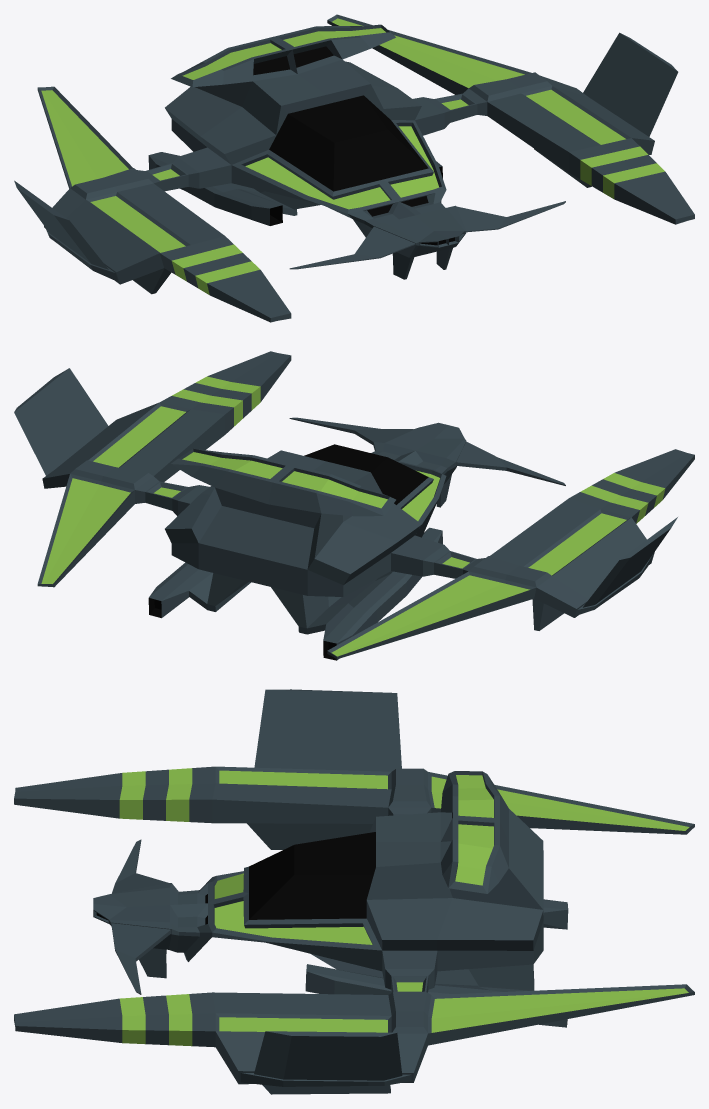
The model's file is Spaceship.fbx.
The picture shows the model from 3 angles, top to bottom: view 1: azimuth 30°, elevation 25°; view 2: azimuth 150°, elevation 25°; view 3: azimuth 270°, elevation 25°; orthographic projection. The views are drawn at different scales.
Parts seen in each view (by area): view 1: Cube; view 2: Cube; view 3: Cube.
Boxes of the visible parts, x1,y1,x2,y2 form: Cube: (14, 14, 694, 322); Cube: (14, 351, 694, 660); Cube: (14, 689, 694, 1094).
Size of the model in its own units: 1137 by 241 by 944.
